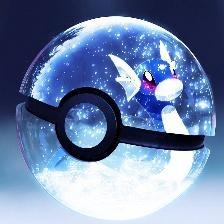Sports-Ball: (17, 18, 214, 220)
